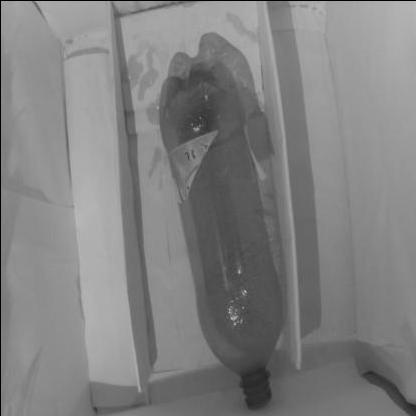plastic_bottles: (153, 61, 292, 413)
